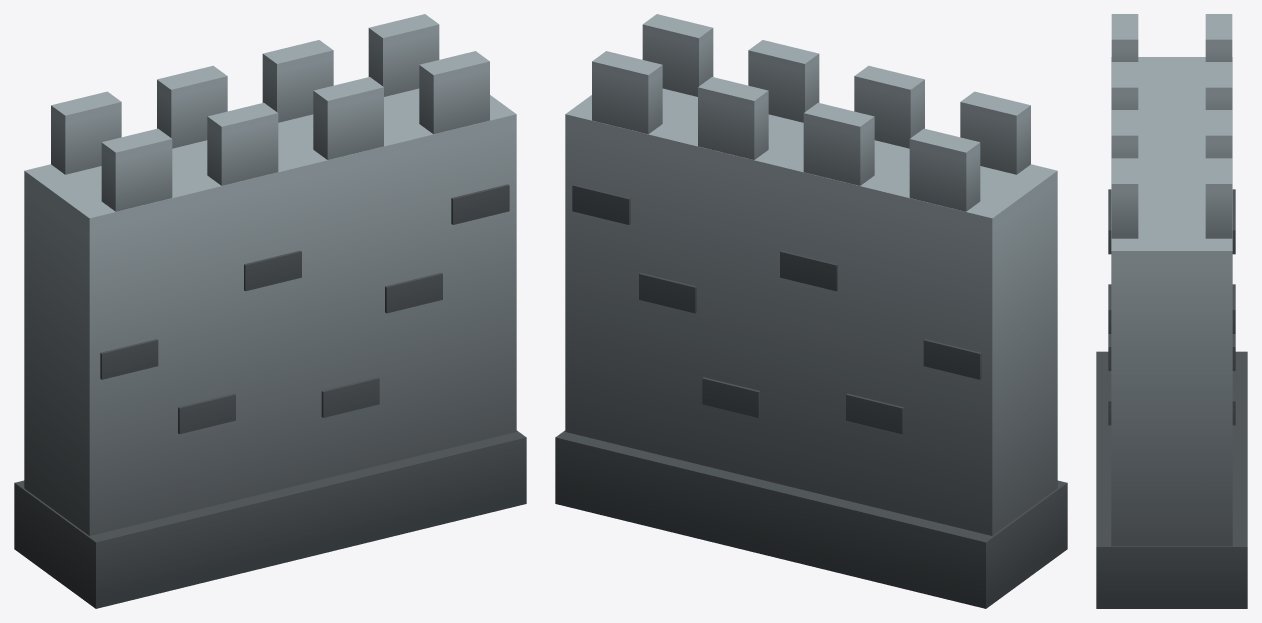
The model's file is city_wall.glb.
3 renders of one model, left to right at view 1: azimuth 30°, elevation 25°; view 2: azimuth 150°, elevation 25°; view 3: azimuth 270°, elevation 25°, orthographic. The views are drawn at different scales.
Parts seen in each view (by area): view 1: city_wall; view 2: city_wall; view 3: city_wall.
Part boxes in pixels (<box>): city_wall: <box>14,14,526,608</box>; city_wall: <box>555,14,1067,608</box>; city_wall: <box>1096,14,1247,608</box>.
Bounding box in the file's own units: 6.1 × 6 × 2.
1 material, 1 textured.
